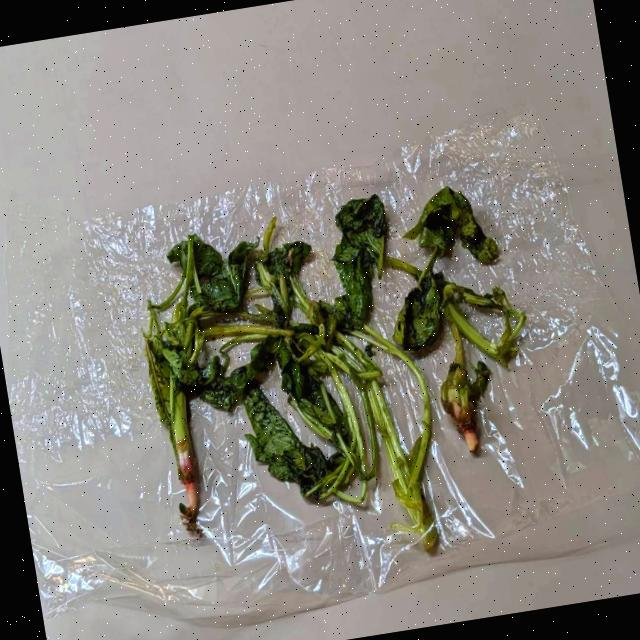rotten spinach: (110, 124, 602, 591), (264, 128, 580, 570), (190, 172, 389, 566), (91, 218, 274, 552)
